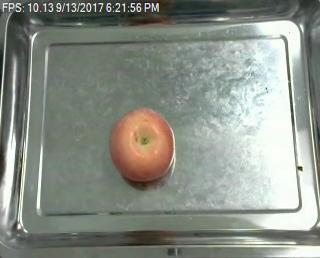apple: (110, 107, 175, 182)
